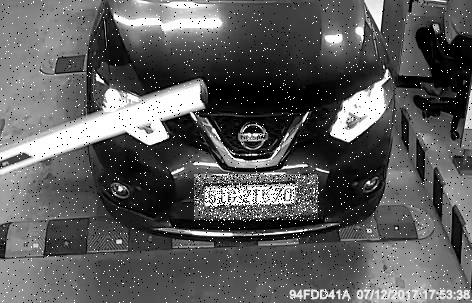License-plate: (196, 176, 321, 223)
